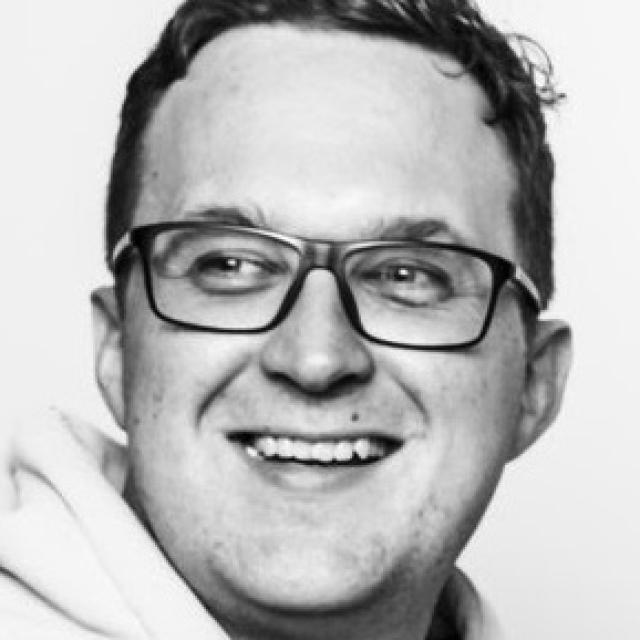Normal: (119, 24, 524, 625)
